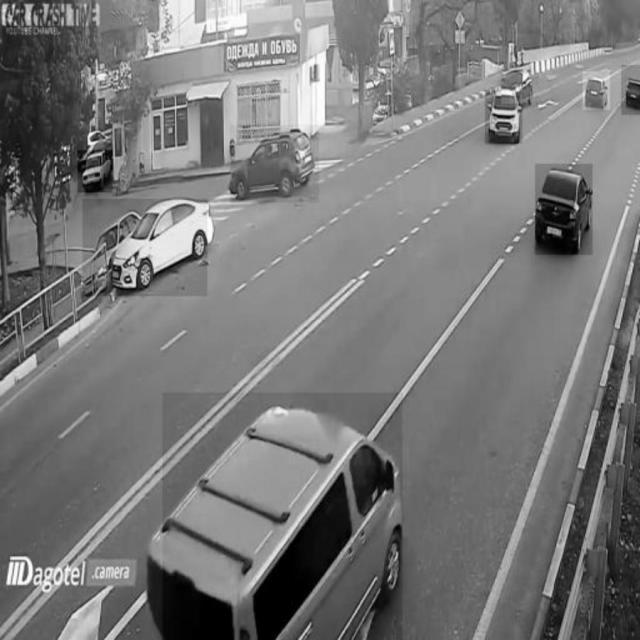accident: (83, 199, 207, 297)
vehicle: (162, 392, 403, 640), (231, 125, 319, 202), (535, 164, 593, 255), (485, 90, 522, 144), (502, 62, 539, 104), (78, 151, 113, 193), (583, 71, 610, 109), (621, 65, 640, 115)
